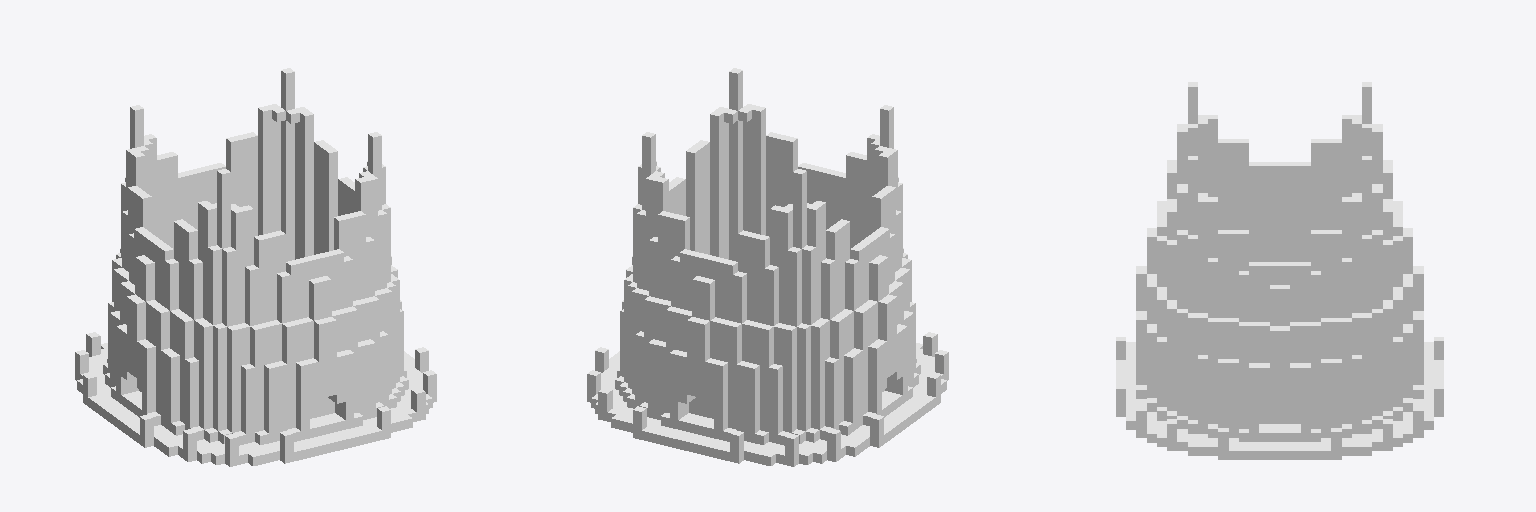
The model's file is market.obj.
3 views of the same model, side by side, from view 1: azimuth 30°, elevation 25°; view 2: azimuth 150°, elevation 25°; view 3: azimuth 270°, elevation 25° (orthographic).
Visible parts, largest first — view 1: object 1; view 2: object 1; view 3: object 1.
Part boxes in pixels (left/top/right/bottom): object 1: left=75, top=68, right=436, bottom=466; object 1: left=587, top=68, right=948, bottom=466; object 1: left=1116, top=82, right=1443, bottom=459.
Bounding box in the file's own units: 3.2 × 2.9 × 3.2.